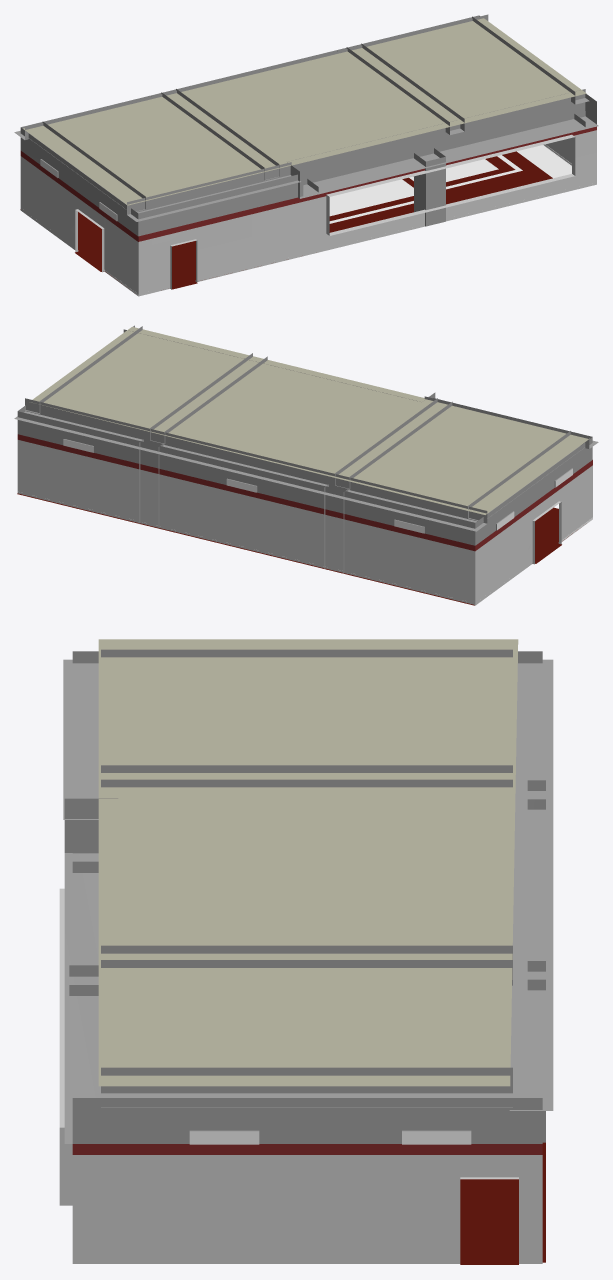
The model's file is SM_H_Building_Tide_Kitchen_01_ATLAS.fbx.
The picture shows the model from 3 angles, top to bottom: view 1: azimuth 30°, elevation 25°; view 2: azimuth 150°, elevation 25°; view 3: azimuth 270°, elevation 25°; orthographic projection. The views are drawn at different scales.
Visible parts, largest first — view 1: SM_H_Building_Tide_Kitchen_01_ATLAS; view 2: SM_H_Building_Tide_Kitchen_01_ATLAS; view 3: SM_H_Building_Tide_Kitchen_01_ATLAS.
Part boxes in pixels (bbox=[...]): SM_H_Building_Tide_Kitchen_01_ATLAS: bbox=[14, 14, 598, 296]; SM_H_Building_Tide_Kitchen_01_ATLAS: bbox=[14, 325, 598, 605]; SM_H_Building_Tide_Kitchen_01_ATLAS: bbox=[59, 639, 553, 1264].
Bounding box in the file's own units: 2920 × 1344 × 547.
